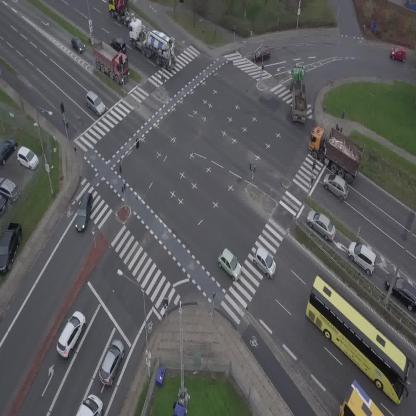car: (51, 308, 90, 359), (95, 337, 129, 388), (342, 236, 384, 276), (302, 205, 342, 244), (213, 247, 247, 282), (318, 169, 354, 202), (248, 245, 282, 279), (73, 191, 96, 232), (81, 89, 109, 117), (66, 34, 87, 56), (109, 35, 129, 54), (251, 46, 271, 61), (391, 47, 406, 61)
lorry: (299, 118, 373, 185), (118, 16, 186, 73), (84, 36, 138, 87), (290, 67, 308, 122), (76, 394, 102, 416)
